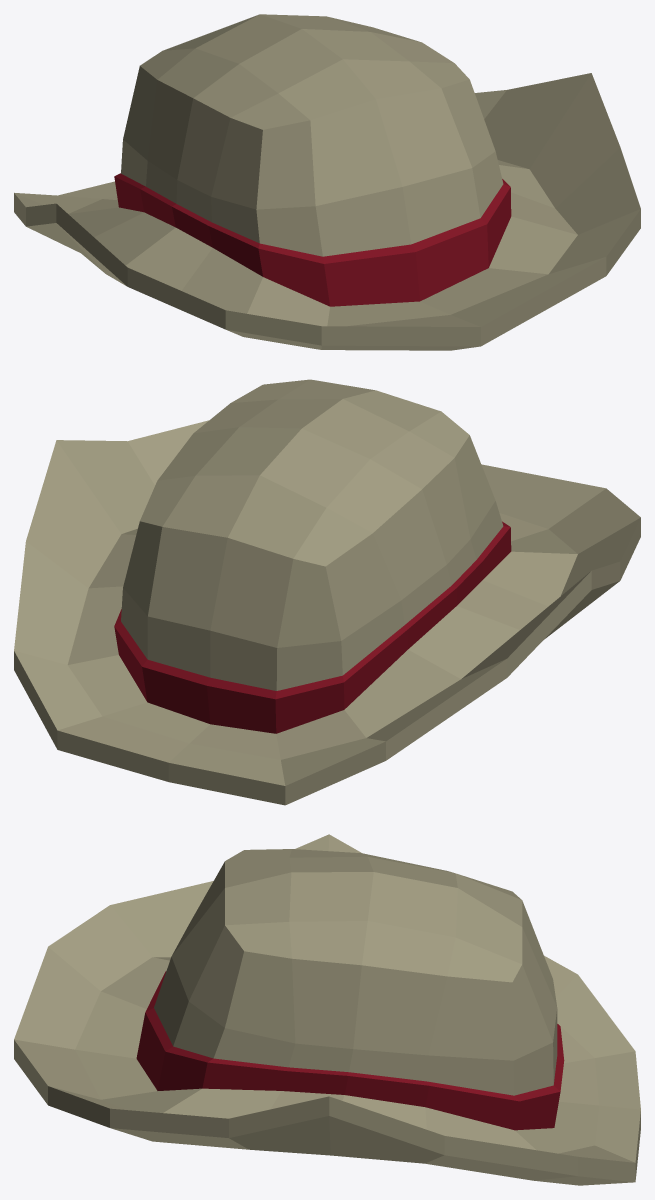
The model's file is CowboyHat.fbx.
The picture shows the model from 3 angles, top to bottom: view 1: azimuth 30°, elevation 25°; view 2: azimuth 150°, elevation 25°; view 3: azimuth 270°, elevation 25°; orthographic projection.
Parts seen in each view (by area): view 1: CowboyHat; view 2: CowboyHat; view 3: CowboyHat.
Part boxes in pixels (box(x1,y1,x2,y2)): CowboyHat: box(14, 14, 640, 350); CowboyHat: box(14, 379, 640, 805); CowboyHat: box(14, 834, 640, 1185).
Bounding box in the file's own units: 35.36 × 17.01 × 35.75.
